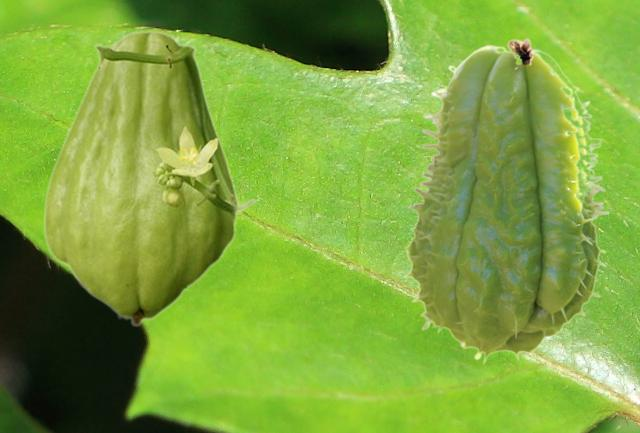sayote: (402, 37, 609, 364), (42, 30, 256, 326)
